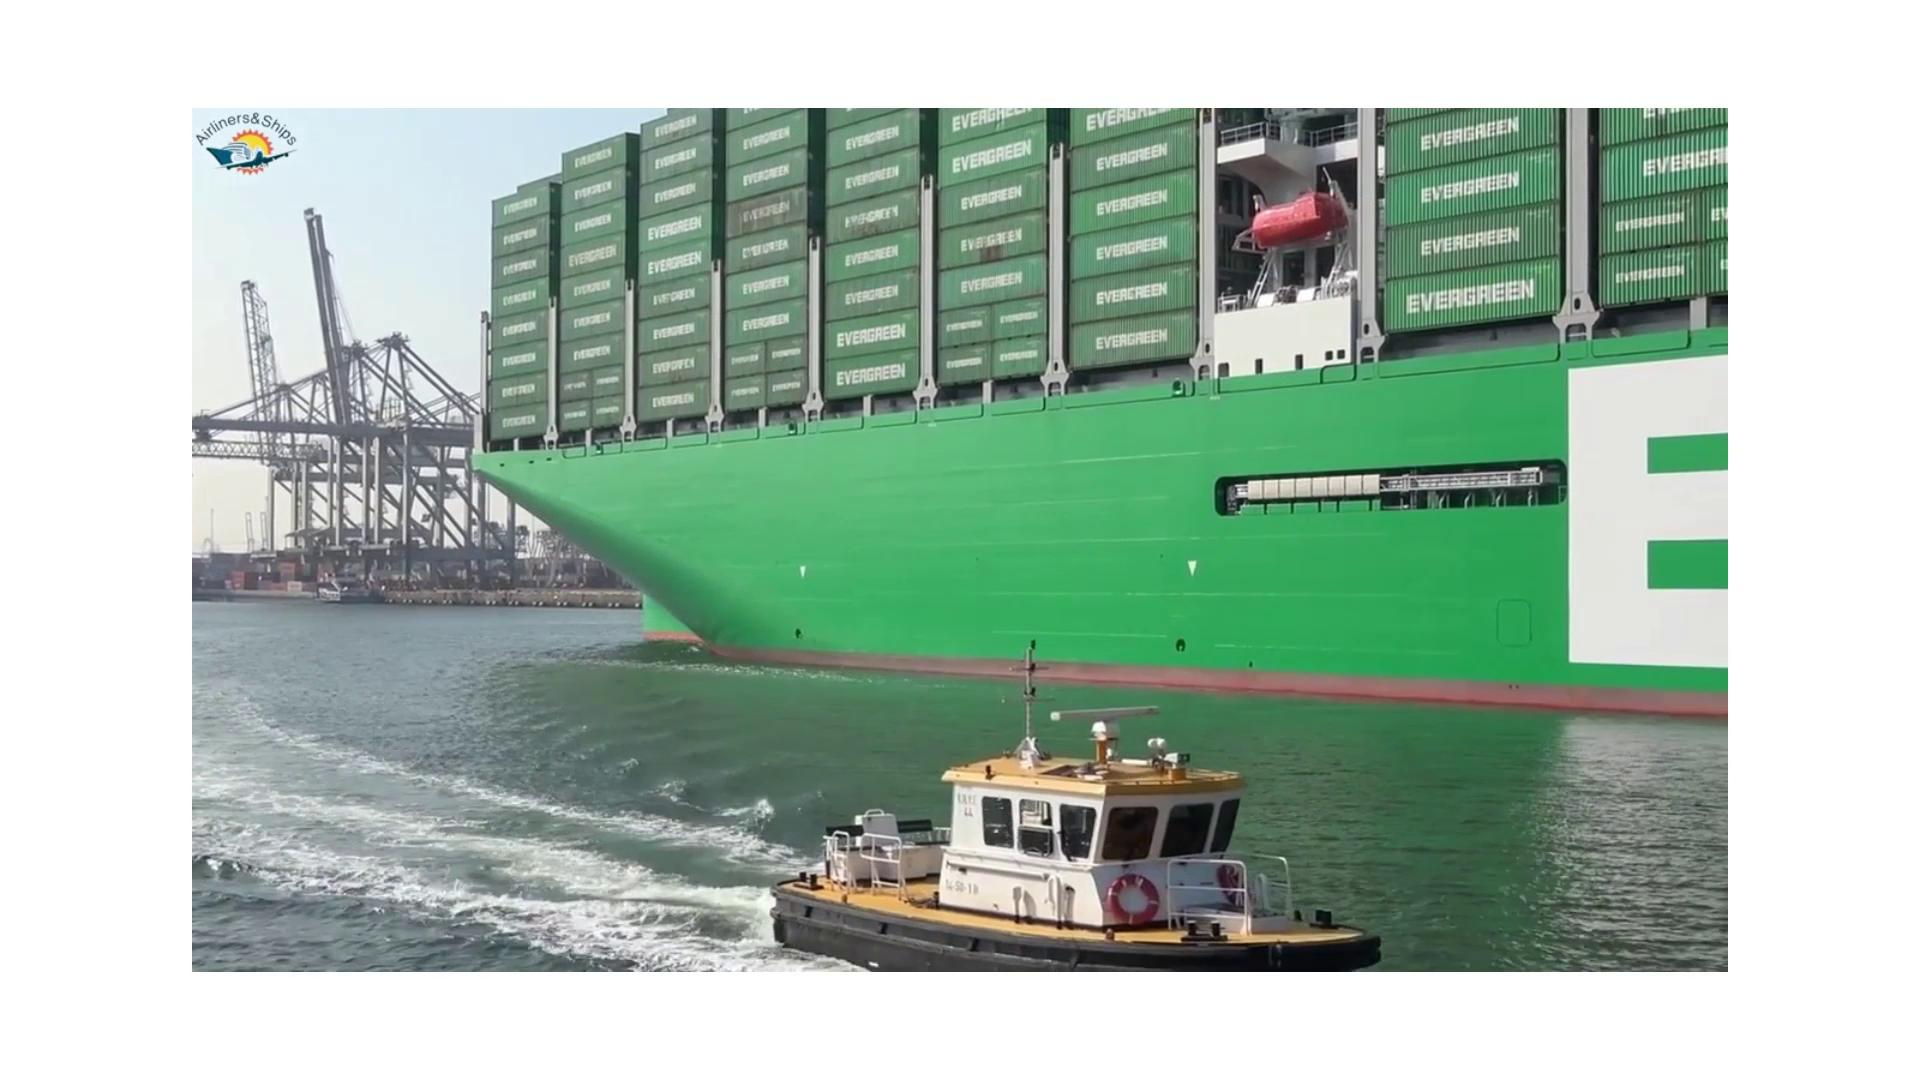OCR: (1445, 345, 1730, 680)
